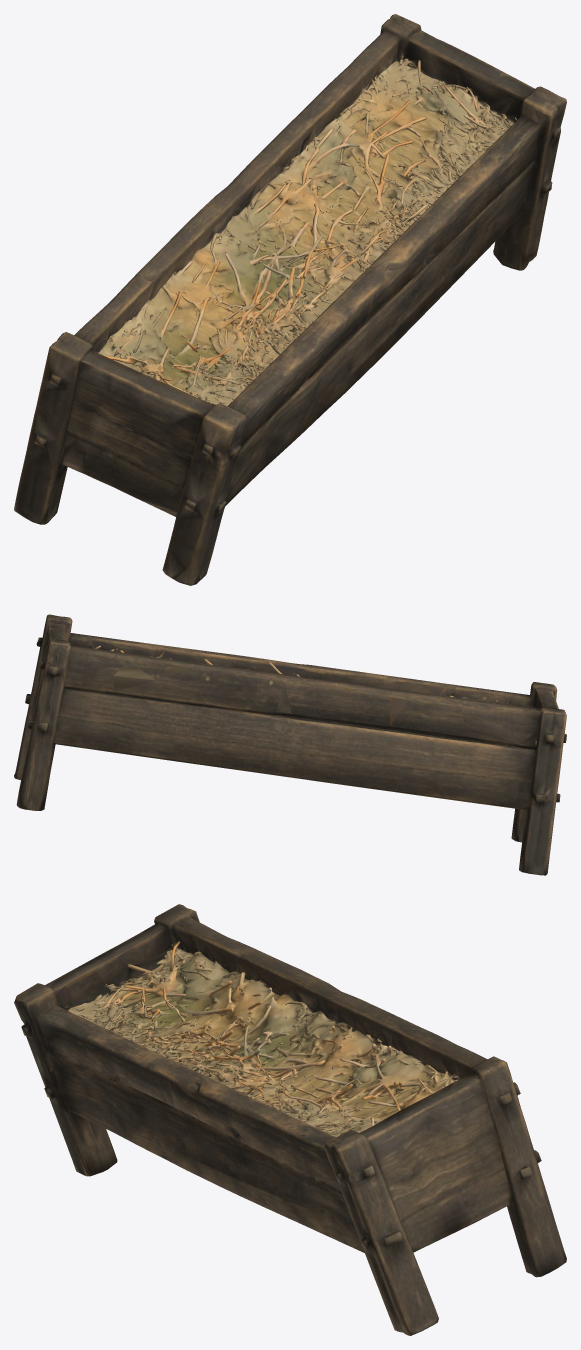
Rendered from straight-feeding-trough-pixal3d-runtime.glb.
The picture shows the model from 3 angles, top to bottom: view 1: azimuth 30°, elevation 25°; view 2: azimuth 150°, elevation 25°; view 3: azimuth 270°, elevation 25°; orthographic projection. The views are drawn at different scales.
Parts seen in each view (by area): view 1: geometry_0; view 2: geometry_0; view 3: geometry_0.
Part boxes in pixels (x1,y1,x2,y2): geometry_0: (14,14,566,585); geometry_0: (14,614,566,875); geometry_0: (14,904,566,1335).
Size of the model in its own units: 1.32 by 0.6503 by 1.05.
1 material, 1 textured.
